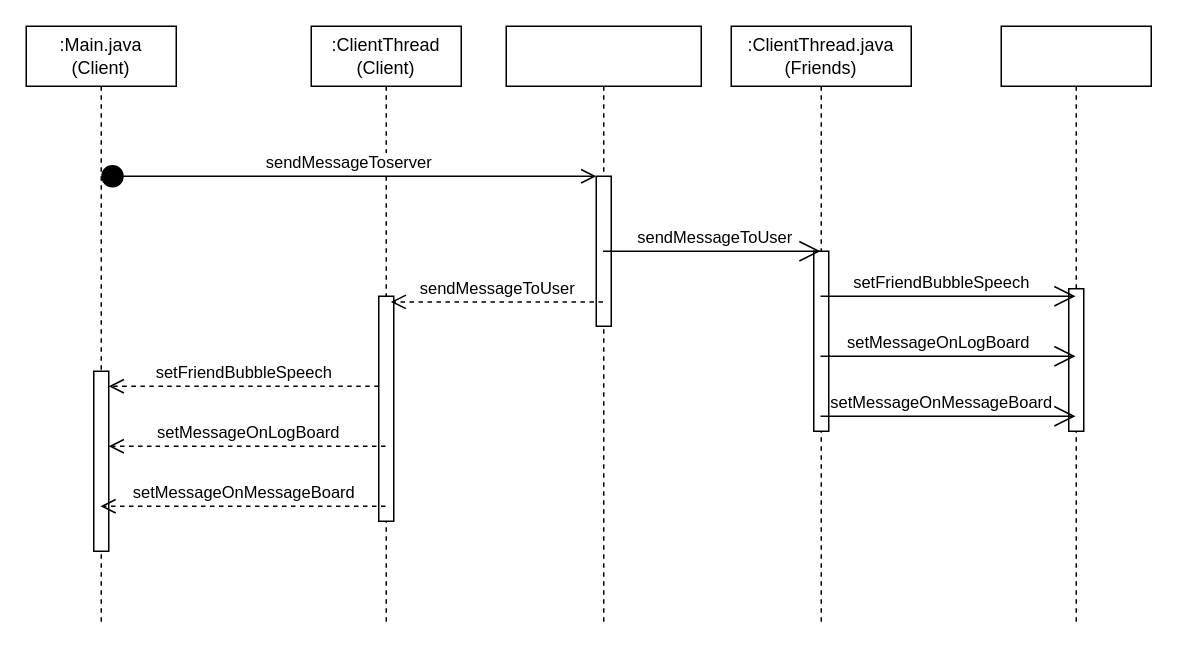
This 1178x653 diagram has some shape labels left out. The box of each missing label's shape, as (x1, y1, x2, y2) in pixels:
:Main.java (Friends): (1000, 25, 1151, 626)
:ServerThread.java: (505, 25, 701, 626)
